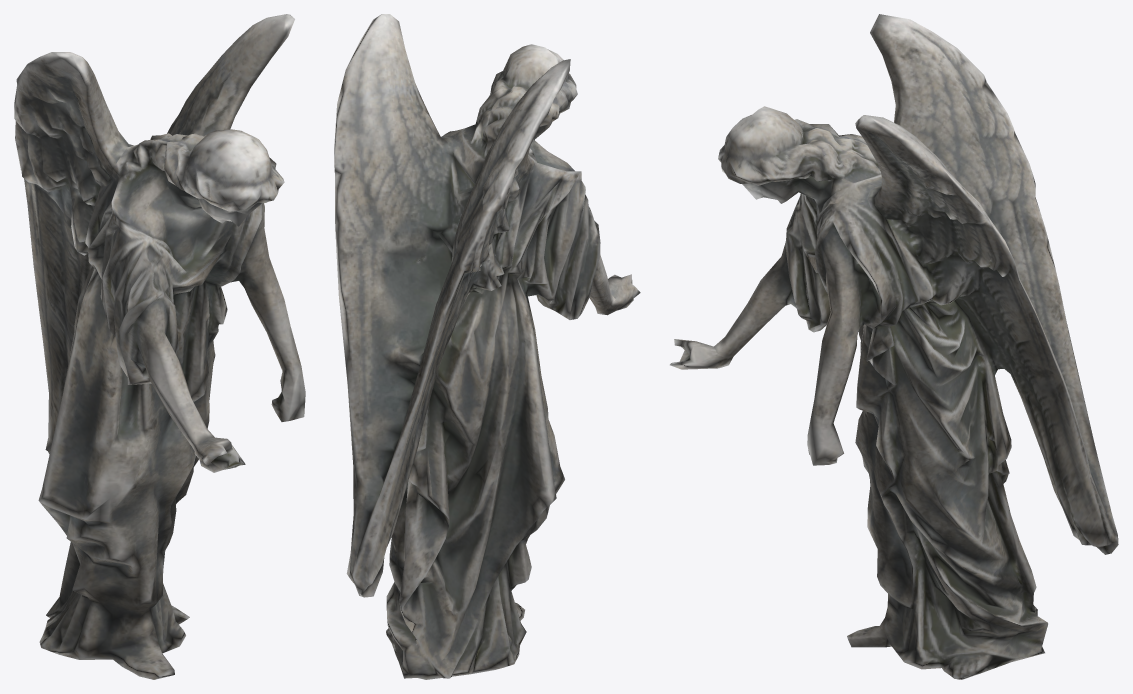
File: Angel.fbx
3 renders of one model, left to right at view 1: azimuth 30°, elevation 25°; view 2: azimuth 150°, elevation 25°; view 3: azimuth 270°, elevation 25°, orthographic. The views are drawn at different scales.
Visible parts, largest first — view 1: BG1_01_low; view 2: BG1_01_low; view 3: BG1_01_low.
Boxes of the visible parts, x1,y1,x2,y2 form: BG1_01_low: [14, 14, 305, 679]; BG1_01_low: [334, 14, 640, 679]; BG1_01_low: [670, 14, 1118, 679].
Bounding box in the file's own units: 136 × 359 × 245.
